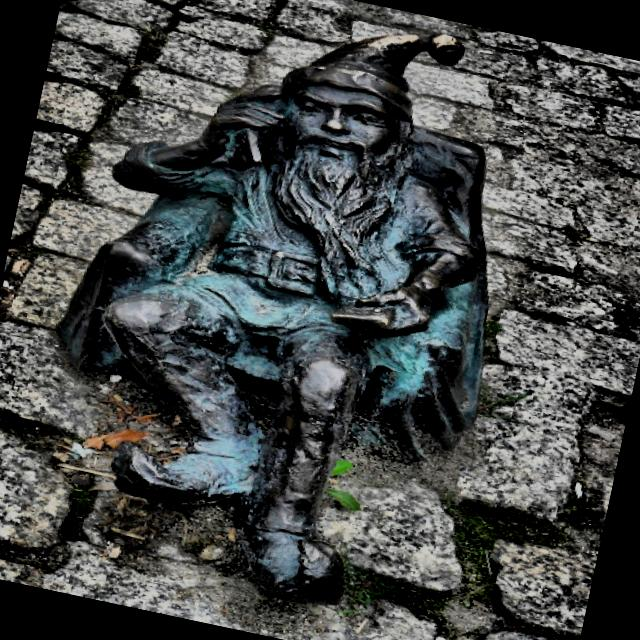Dialogomir: (58, 32, 490, 602)
